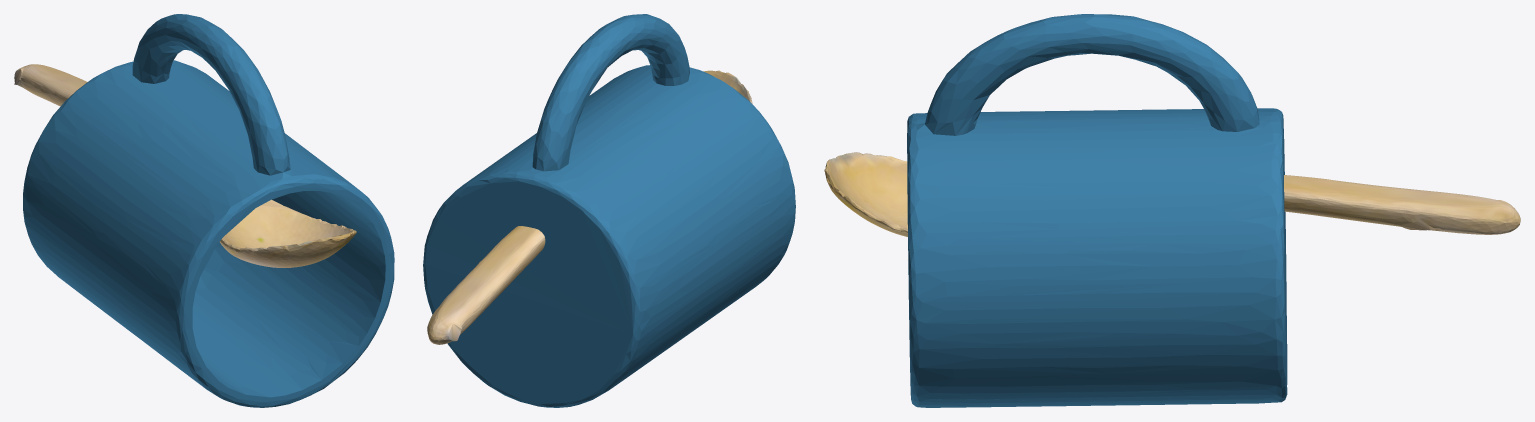
3 renders of one model, left to right at view 1: azimuth 30°, elevation 25°; view 2: azimuth 150°, elevation 25°; view 3: azimuth 270°, elevation 25°, orthographic. The views are drawn at different scales.
Parts seen in each view (by area): view 1: world; view 2: world; view 3: world.
Part boxes in pixels (bbox=[...]): world: bbox=[14, 14, 394, 407]; world: bbox=[423, 14, 795, 407]; world: bbox=[824, 14, 1520, 407].
Bounding box in the file's own units: 0.0821 × 0.1163 × 0.1935.
